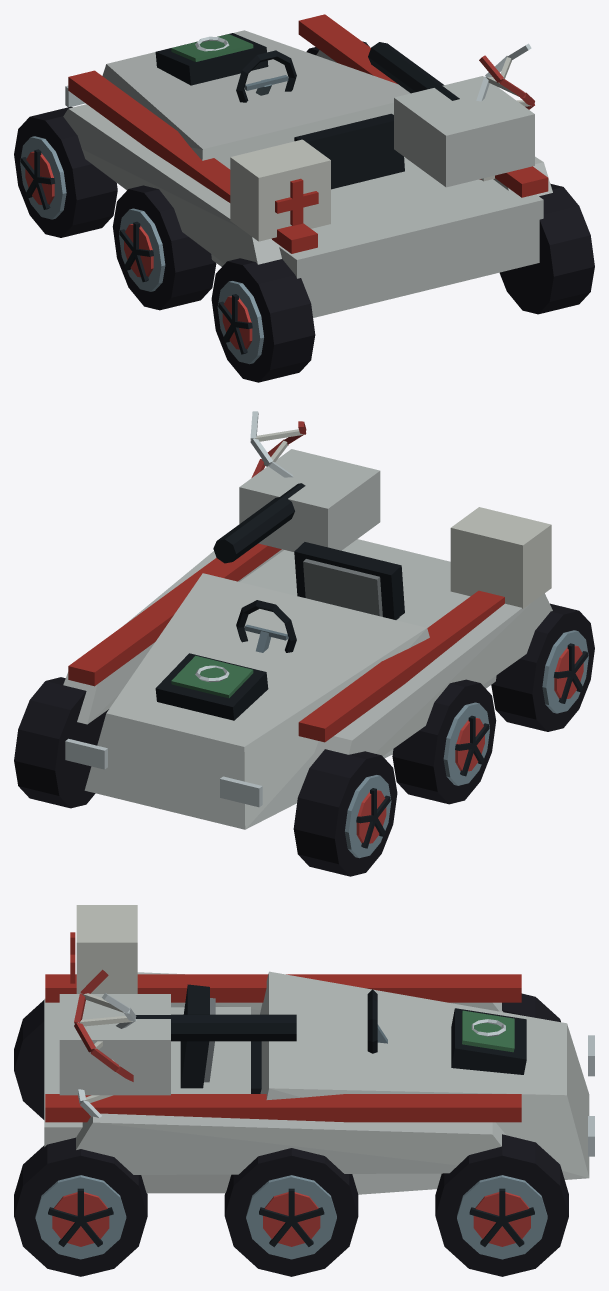
Rendered from kart.glb.
3 views of the same model, one above another, from view 1: azimuth 30°, elevation 25°; view 2: azimuth 150°, elevation 25°; view 3: azimuth 270°, elevation 25° (orthographic). The views are drawn at different scales.
Parts seen in each view (by area): view 1: identity-mako-mako-wedge-rover, wheel-rear-left, wheel-front-left, wheel-middle-left, identity-mako-motif-medical, wheel-rear-right, identity-mako-driver-cockpit, identity-mako-motif-scanner, identity-mako-motif-dna; view 2: identity-mako-mako-wedge-rover, wheel-front-left, wheel-middle-left, wheel-rear-left, identity-mako-motif-medical, wheel-front-right, identity-mako-driver-cockpit, identity-mako-motif-scanner, identity-mako-motif-dna; view 3: identity-mako-mako-wedge-rover, wheel-front-right, wheel-rear-right, wheel-middle-right, identity-mako-motif-medical, identity-mako-motif-scanner, identity-mako-driver-cockpit, wheel-rear-left, identity-mako-motif-dna, wheel-front-left.
Part boxes in pixels (x1=…): identity-mako-mako-wedge-rover: x1=63, y1=14, x2=552, y2=317; wheel-rear-left: x1=211, y1=258, x2=315, y2=382; wheel-front-left: x1=14, y1=106, x2=117, y2=237; wheel-middle-left: x1=112, y1=185, x2=216, y2=310; identity-mako-motif-medical: x1=230, y1=139, x2=330, y2=241; wheel-rear-right: x1=499, y1=183, x2=594, y2=314; identity-mako-driver-cockpit: x1=236, y1=50, x2=404, y2=189; identity-mako-motif-scanner: x1=155, y1=33, x2=268, y2=85; identity-mako-motif-dna: x1=476, y1=43, x2=534, y2=181; identity-mako-mako-wedge-rover: x1=63, y1=449, x2=552, y2=829; wheel-front-left: x1=293, y1=749, x2=397, y2=876; wheel-middle-left: x1=392, y1=679, x2=496, y2=804; wheel-rear-left: x1=491, y1=603, x2=594, y2=731; identity-mako-motif-medical: x1=450, y1=507, x2=551, y2=608; wheel-front-right: x1=14, y1=677, x2=108, y2=808; identity-mako-driver-cockpit: x1=236, y1=542, x2=404, y2=652; identity-mako-motif-scanner: x1=155, y1=653, x2=268, y2=720; identity-mako-motif-dna: x1=250, y1=411, x2=306, y2=477; identity-mako-mako-wedge-rover: x1=44, y1=971, x2=594, y2=1194; wheel-front-right: x1=435, y1=1134, x2=568, y2=1276; wheel-rear-right: x1=14, y1=1137, x2=147, y2=1276; wheel-middle-right: x1=224, y1=1148, x2=358, y2=1276; identity-mako-motif-medical: x1=70, y1=905, x2=137, y2=993; identity-mako-motif-scanner: x1=451, y1=1008, x2=526, y2=1074; identity-mako-driver-cockpit: x1=180, y1=984, x2=387, y2=1093; wheel-rear-left: x1=14, y1=1000, x2=44, y2=1119; identity-mako-motif-dna: x1=74, y1=969, x2=136, y2=1117; wheel-front-left: x1=502, y1=993, x2=560, y2=1022.
Bounding box in the file's own units: 2.07 × 1.47 × 2.87.
